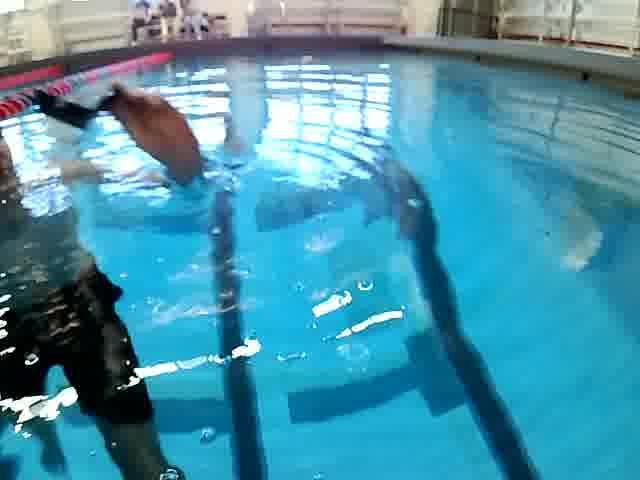CamMount: (27, 84, 137, 130)
